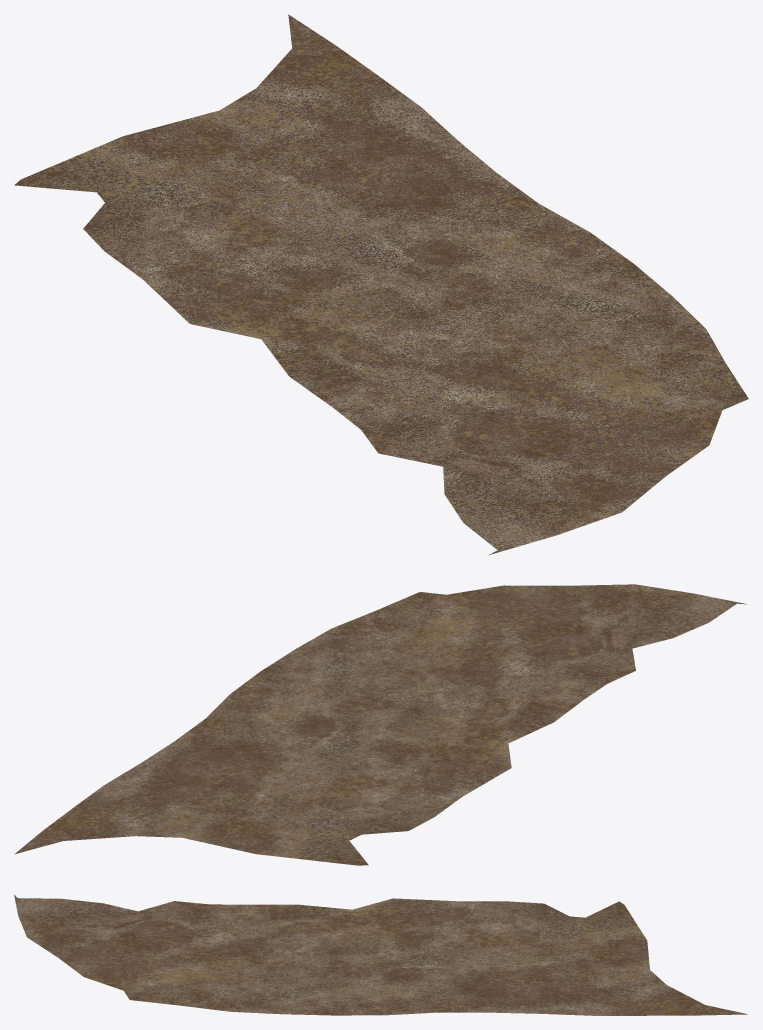
File: suelo_t_1.obj
The picture shows the model from 3 angles, top to bottom: view 1: azimuth 30°, elevation 25°; view 2: azimuth 150°, elevation 25°; view 3: azimuth 270°, elevation 25°; orthographic projection. The views are drawn at different scales.
Visible parts, largest first — view 1: suelo_t_1; view 2: suelo_t_1; view 3: suelo_t_1.
Boxes of the visible parts, left/top/right/bottom form: suelo_t_1: left=14, top=14, right=748, bottom=555; suelo_t_1: left=14, top=584, right=746, bottom=865; suelo_t_1: left=14, top=894, right=747, bottom=1015.
Bounding box in the file's own units: 211 × 0 × 539.
1 material, 1 textured.
